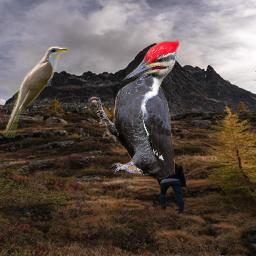Cuckoo: (2, 46, 69, 138)
Woodpecker: (88, 40, 179, 180)
